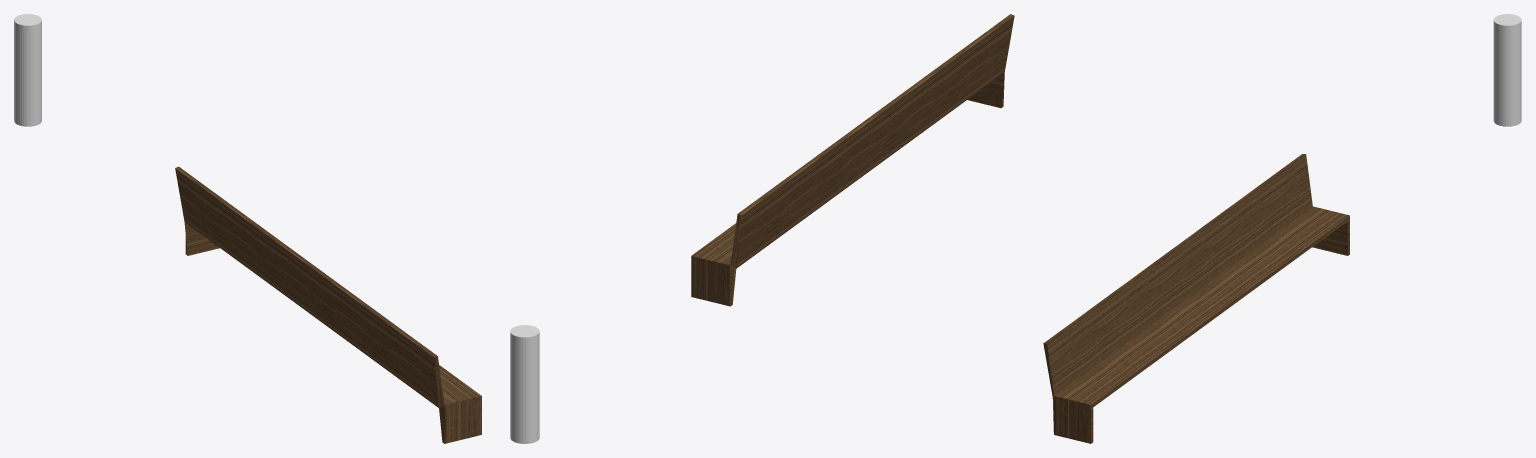
File: seating.glb
3 renders of one model, left to right at view 1: azimuth 30°, elevation 25°; view 2: azimuth 150°, elevation 25°; view 3: azimuth 330°, elevation 25°, orthographic. The views are drawn at different scales.
Visible parts, largest first — view 1: Cube, Ref-noimp; view 2: Cube, Ref-noimp; view 3: Cube, Ref-noimp.
Boxes of the visible parts, left/top/right/bottom form: Cube: left=175, top=166, right=481, bottom=443; Ref-noimp: left=14, top=14, right=41, bottom=126; Cube: left=691, top=14, right=1014, bottom=306; Ref-noimp: left=510, top=325, right=539, bottom=443; Cube: left=1043, top=154, right=1349, bottom=443; Ref-noimp: left=1493, top=14, right=1521, bottom=126.
Bounding box in the file's own units: 0.9893 × 2 × 15.87.
1 material, 1 textured.
